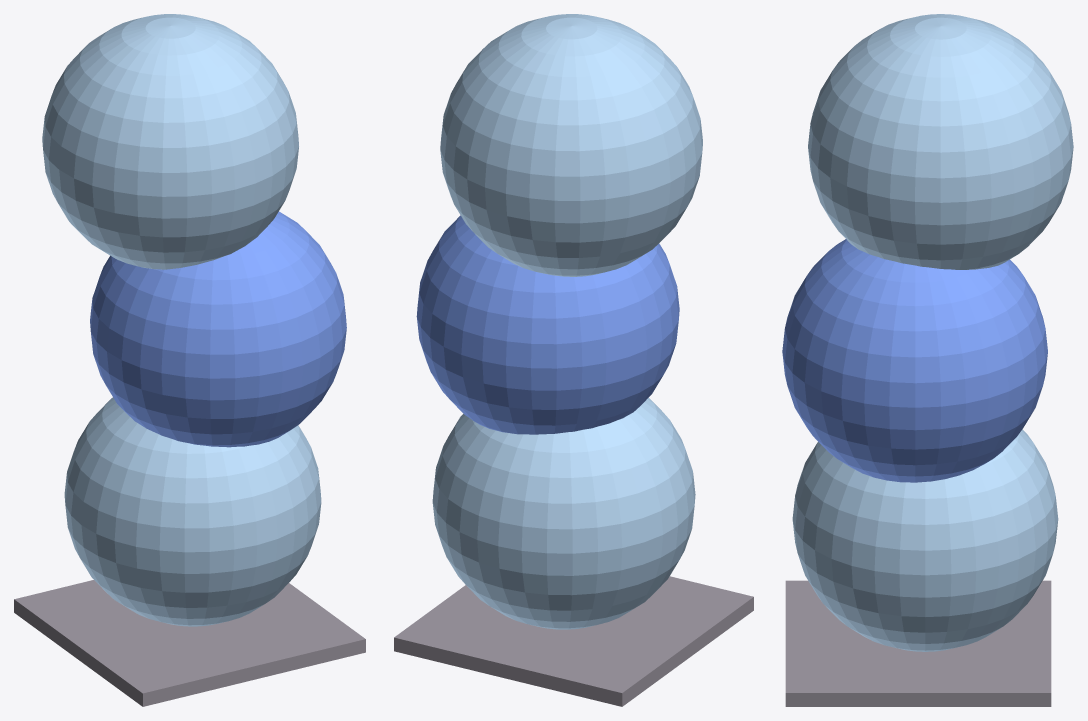
The model's file is Building 3.fbx.
The picture shows the model from 3 angles, left to right: view 1: azimuth 30°, elevation 25°; view 2: azimuth 150°, elevation 25°; view 3: azimuth 270°, elevation 25°; orthographic projection. The views are drawn at different scales.
Parts seen in each view (by area): view 1: Sphere.002, Sphere.001, Sphere, Plane; view 2: Sphere.002, Sphere, Sphere.001, Plane; view 3: Sphere.002, Sphere.001, Sphere, Plane.
Part boxes in pixels (<box>): Sphere.002: <box>42,14,298,269</box>; Sphere.001: <box>90,211,346,447</box>; Sphere: <box>64,397,321,626</box>; Plane: <box>14,580,365,706</box>; Sphere.002: <box>440,14,702,276</box>; Sphere: <box>432,397,695,629</box>; Sphere.001: <box>416,215,679,434</box>; Plane: <box>394,576,753,706</box>; Sphere.002: <box>808,14,1073,269</box>; Sphere.001: <box>782,239,1047,482</box>; Sphere: <box>792,429,1058,651</box>; Plane: <box>785,580,1051,706</box>.
Bounding box in the file's own units: 232 × 515 × 219.
